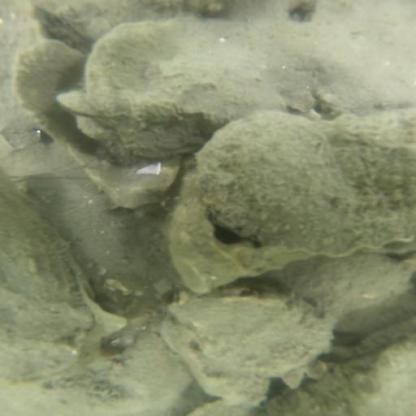Oyster-Closed: (55, 14, 287, 163), (191, 110, 407, 254), (164, 290, 330, 397), (2, 184, 92, 379), (38, 330, 189, 412)
